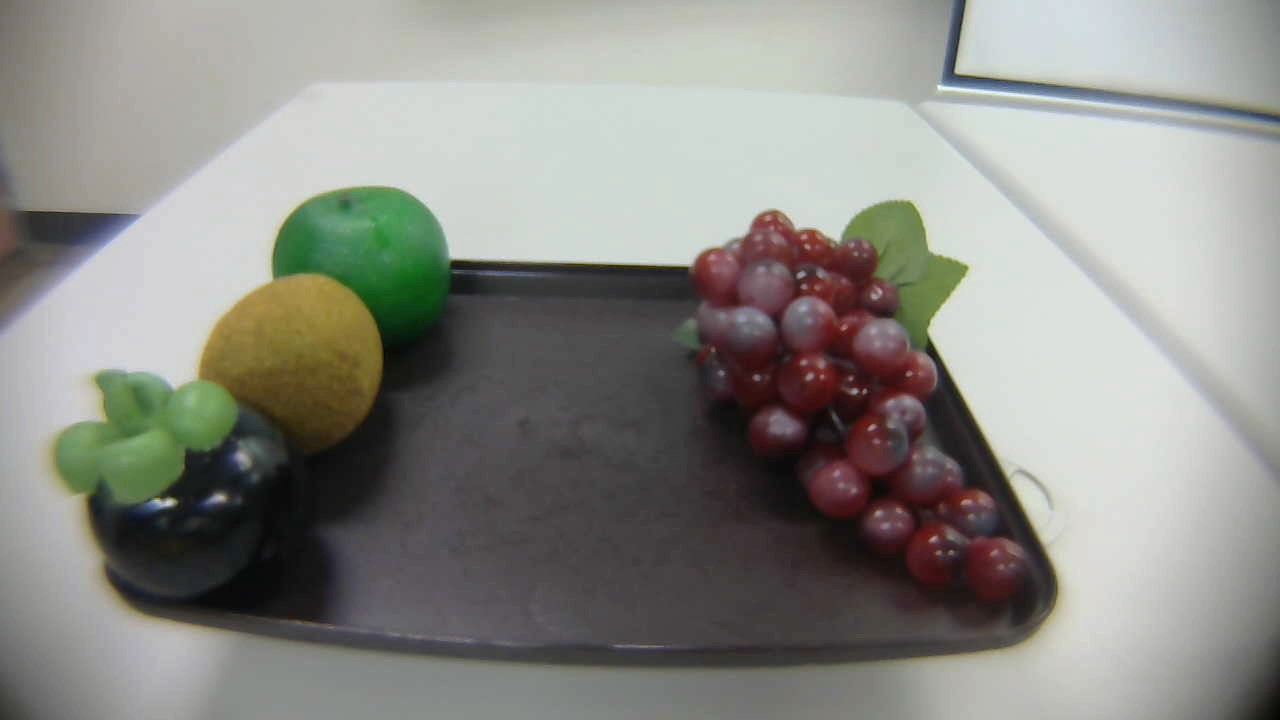grape: (658, 196, 1037, 623)
green orange: (263, 179, 462, 371)
kiwi fruit: (203, 269, 383, 461)
mangosteen: (48, 370, 307, 611)
